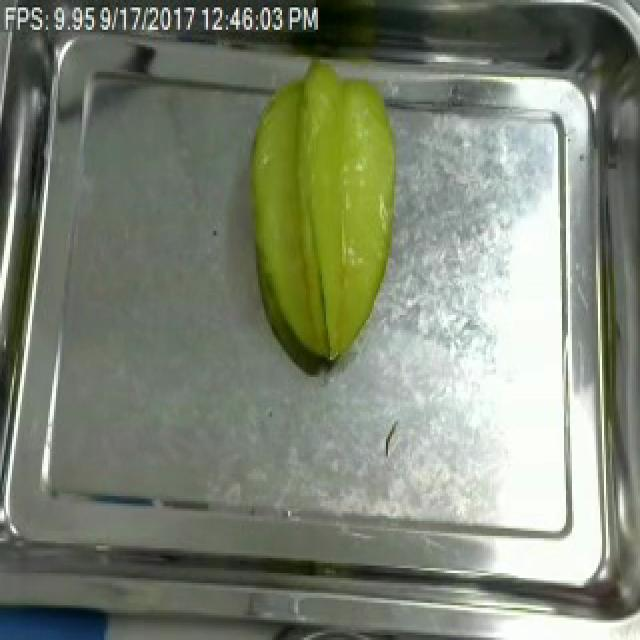fruit: (232, 55, 406, 377)
